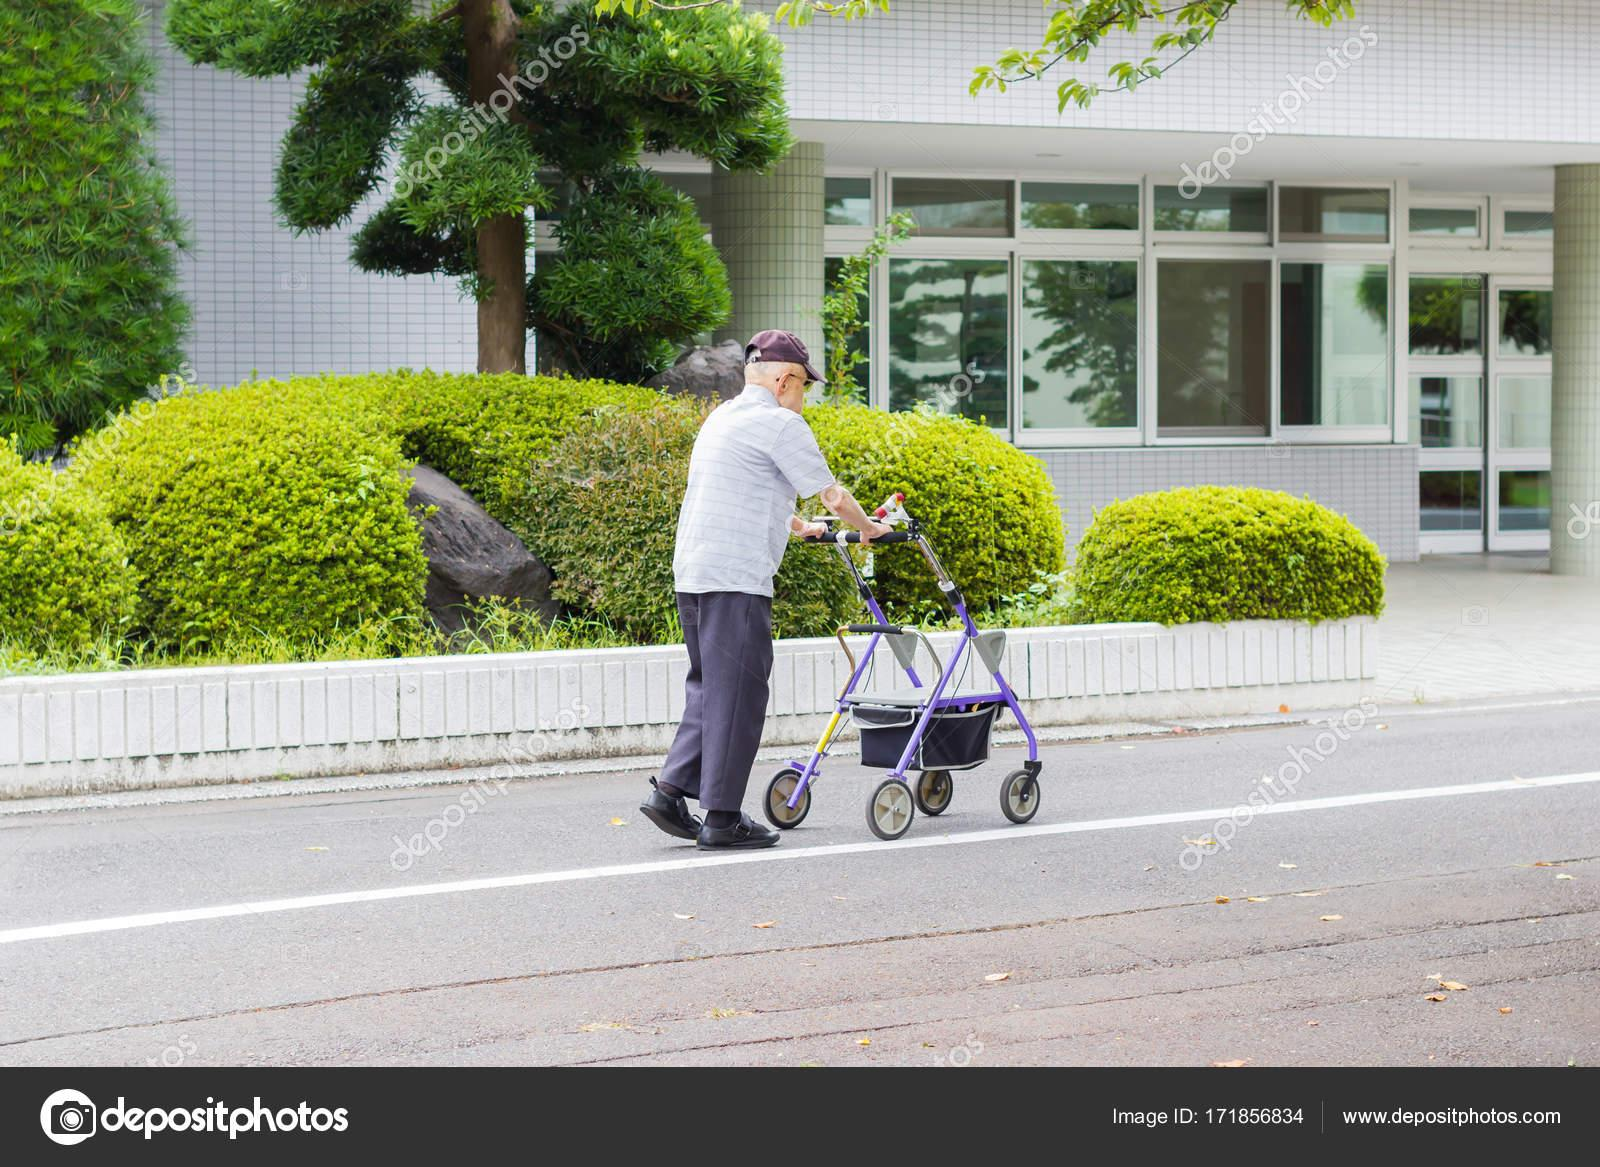walking_frame: (640, 328, 1042, 851)
